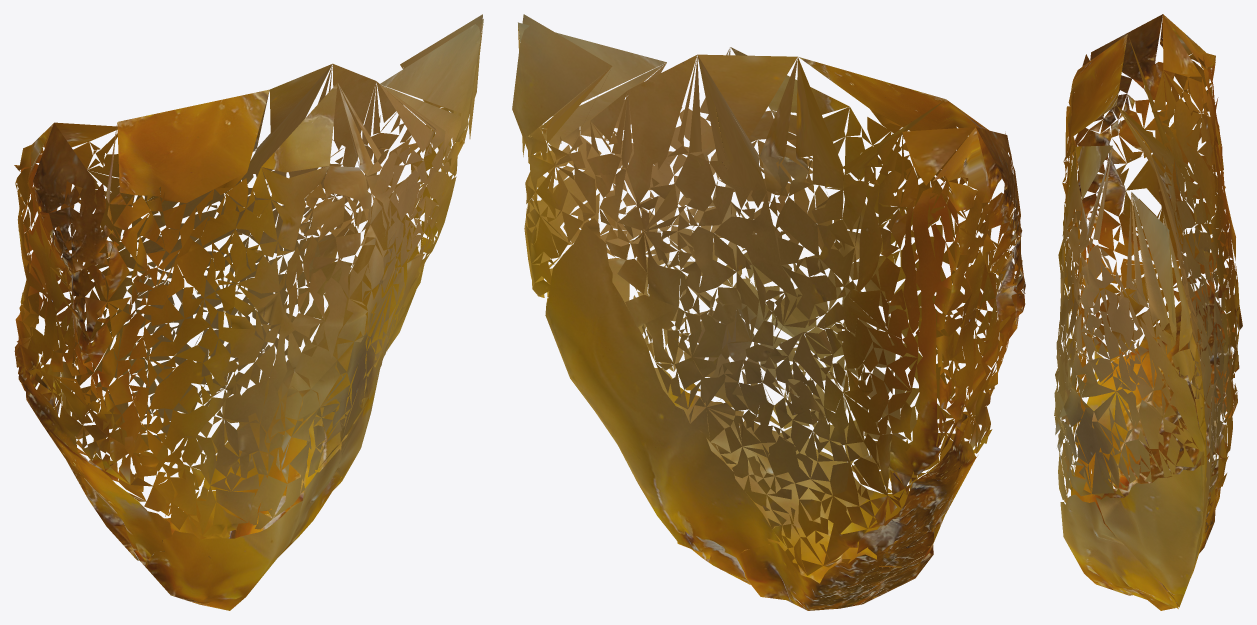
The model's file is lithic_core.glb.
3 renders of one model, left to right at view 1: azimuth 30°, elevation 25°; view 2: azimuth 150°, elevation 25°; view 3: azimuth 270°, elevation 25°, orthographic. The views are drawn at different scales.
Visible parts, largest first — view 1: Model_material0_0, Model_material0_0.001; view 2: Model_material0_0, Model_material0_0.001; view 3: Model_material0_0, Model_material0_0.001.
Boxes of the visible parts, left/top/right/bottom form: Model_material0_0: left=14, top=14, right=483, bottom=538; Model_material0_0.001: left=16, top=115, right=464, bottom=610; Model_material0_0: left=512, top=14, right=1025, bottom=575; Model_material0_0.001: left=524, top=107, right=1018, bottom=610; Model_material0_0: left=1054, top=14, right=1239, bottom=531; Model_material0_0.001: left=1057, top=58, right=1242, bottom=610.
Bounding box in the file's own units: 0.1185 × 0.1255 × 0.0422.
Materials: 1 (1 with a texture image).
